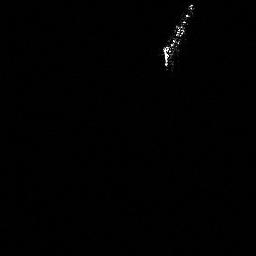ship: (158, 2, 198, 72)
